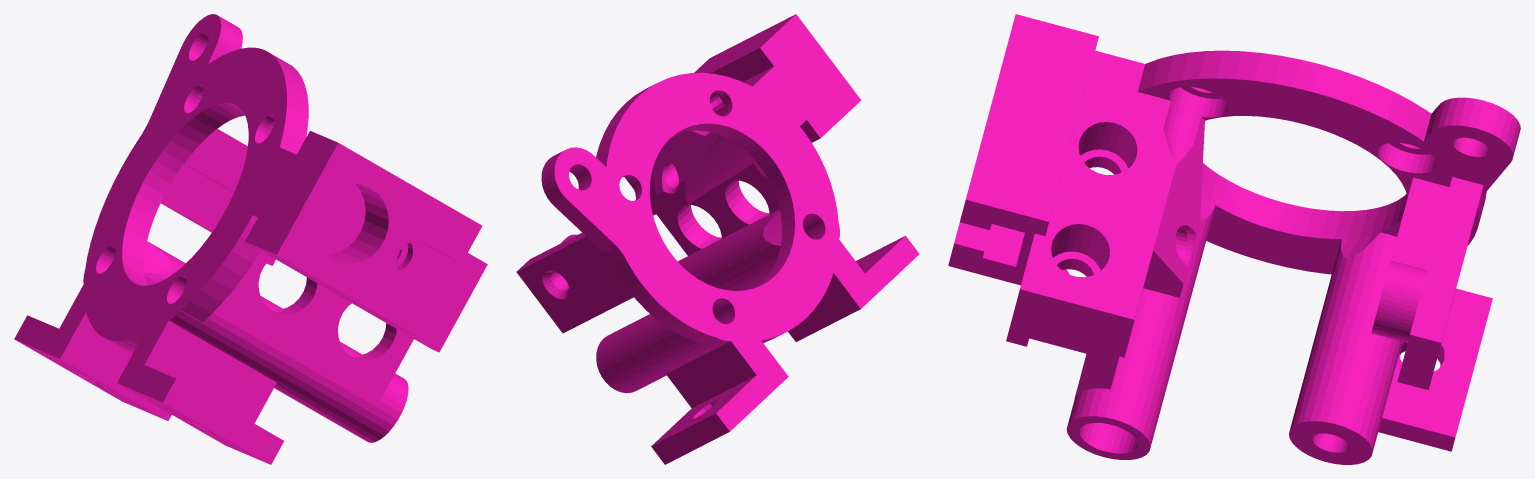
File: gear1_5.dae
3 views of the same model, side by side, from view 1: azimuth 30°, elevation 25°; view 2: azimuth 150°, elevation 25°; view 3: azimuth 270°, elevation 25° (orthographic). The views are drawn at different scales.
Visible parts, largest first — view 1: gear1_019; view 2: gear1_019; view 3: gear1_019.
Boxes of the visible parts, x1,y1,x2,y2 form: gear1_019: (14,14,487,464); gear1_019: (516,14,919,464); gear1_019: (948,14,1520,464).
Size of the model in its own units: 0.0679 by 0.089 by 0.0781.
